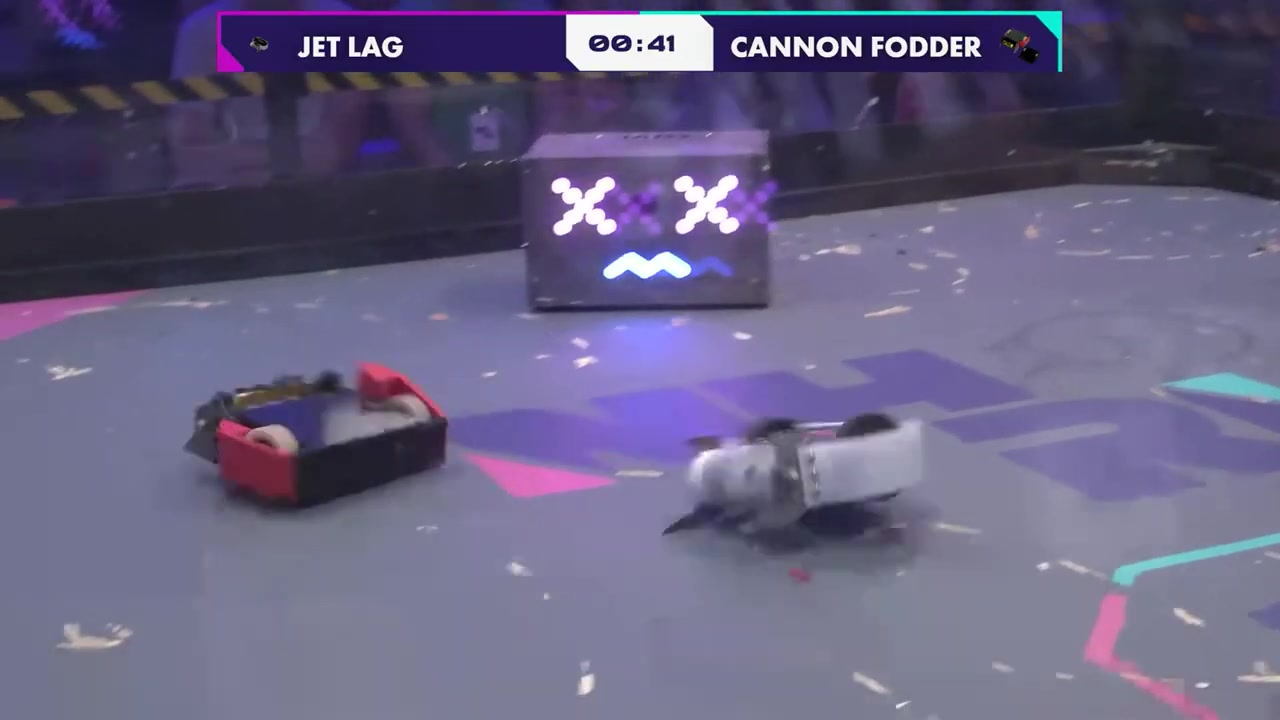combatbot: (188, 364, 449, 510), (687, 423, 927, 508)
housebot: (523, 129, 776, 315)
